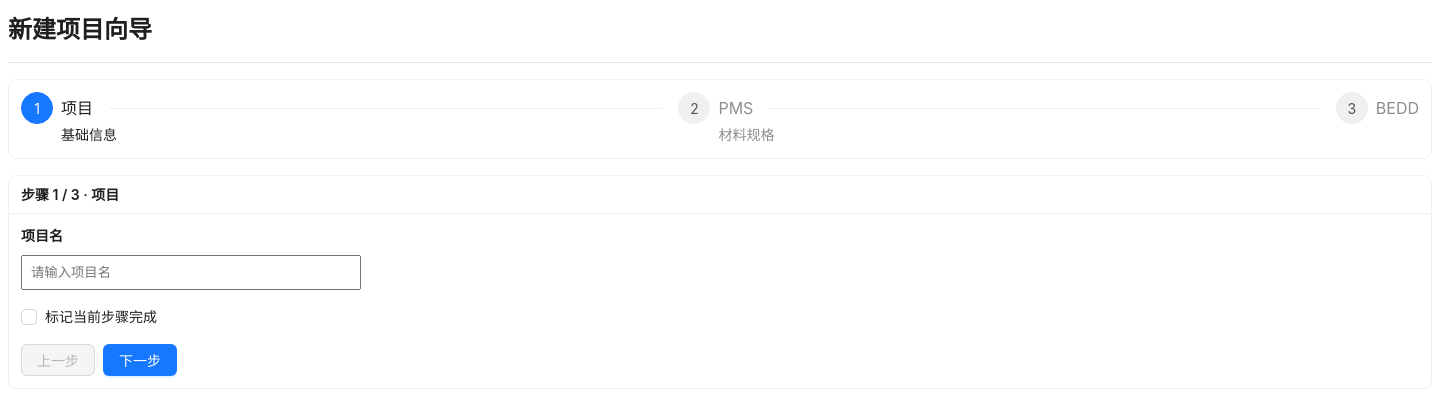
ProjectWizardPage › navigates back with prev button
Click the button with test id "wizard-next": [140, 360] box [103,344,177,376]
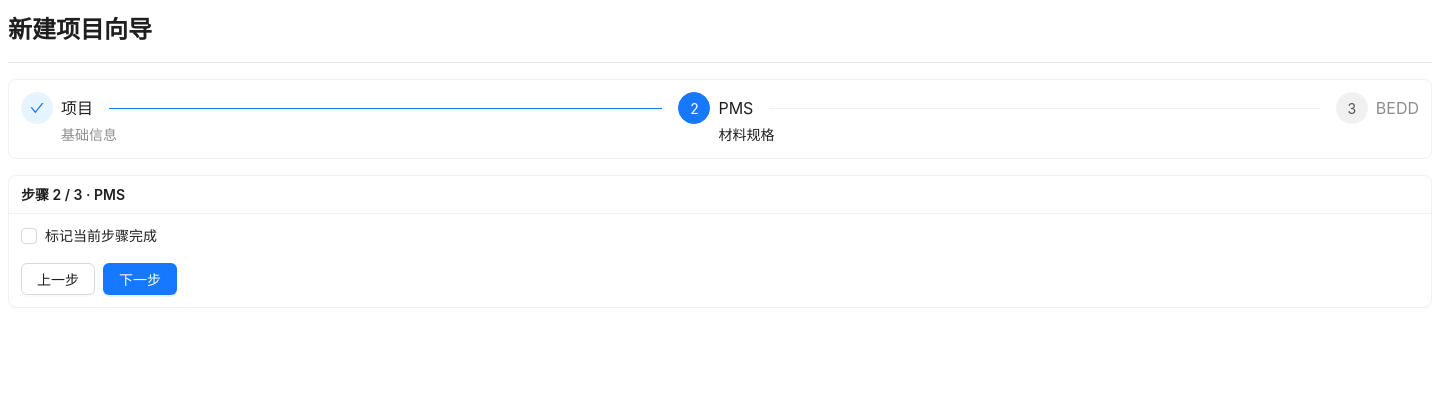
Click the button with test id "wizard-prev": [58, 279] box [21,263,95,295]
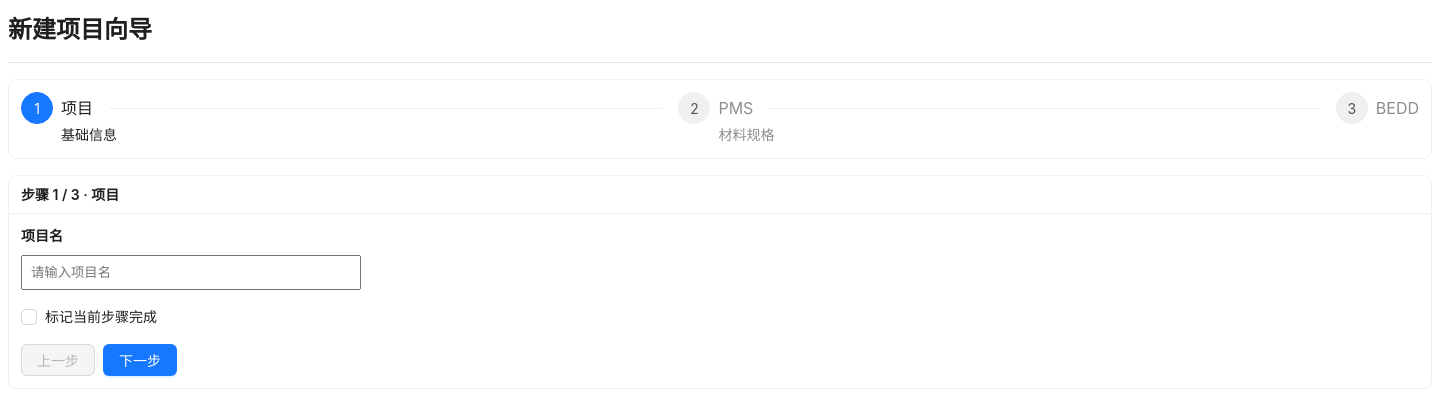
Check: the text "步骤 1 / 3 · 项目" is shown, box [21,186,119,202]
